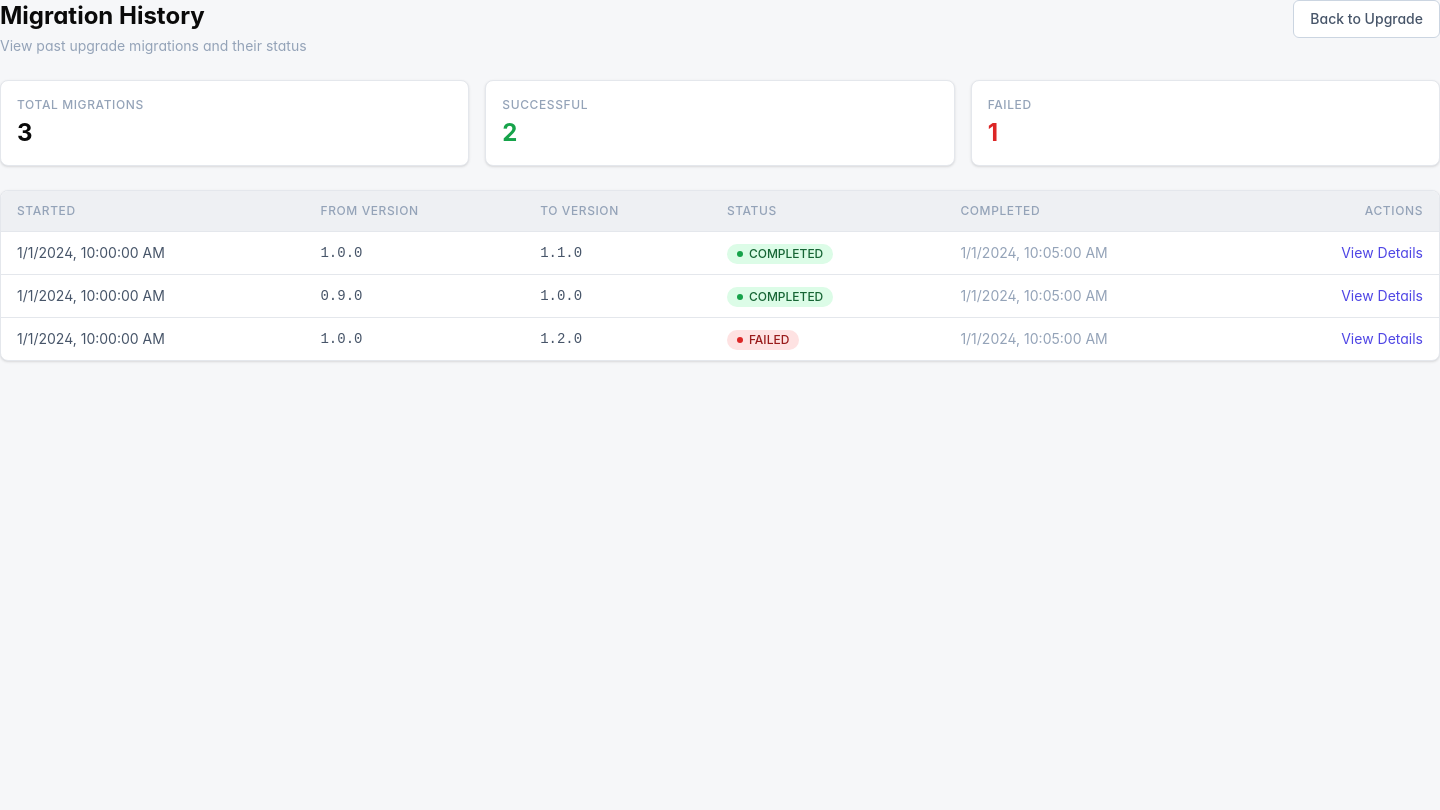
Scenario: MigrationHistoryPage › closes detail modal when Close is clicked
Click the button "View Details" in the row of "1.1.0": (1382, 253) [1341,243,1423,263]
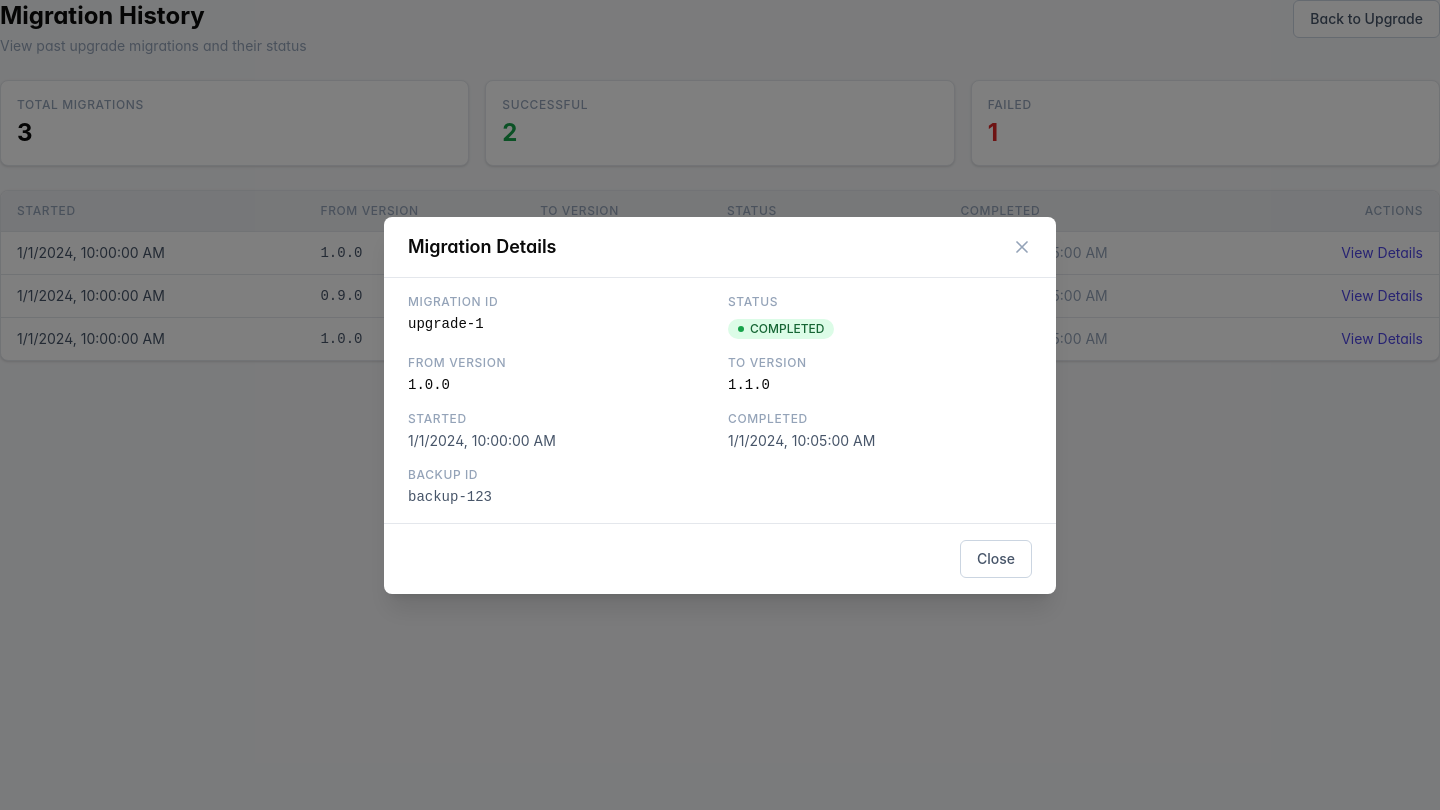
Now the heading "Migration Details" is shown, box [408,232,556,260]
Click the button with test id "modal-close-button": (996, 558) [960,540,1032,578]
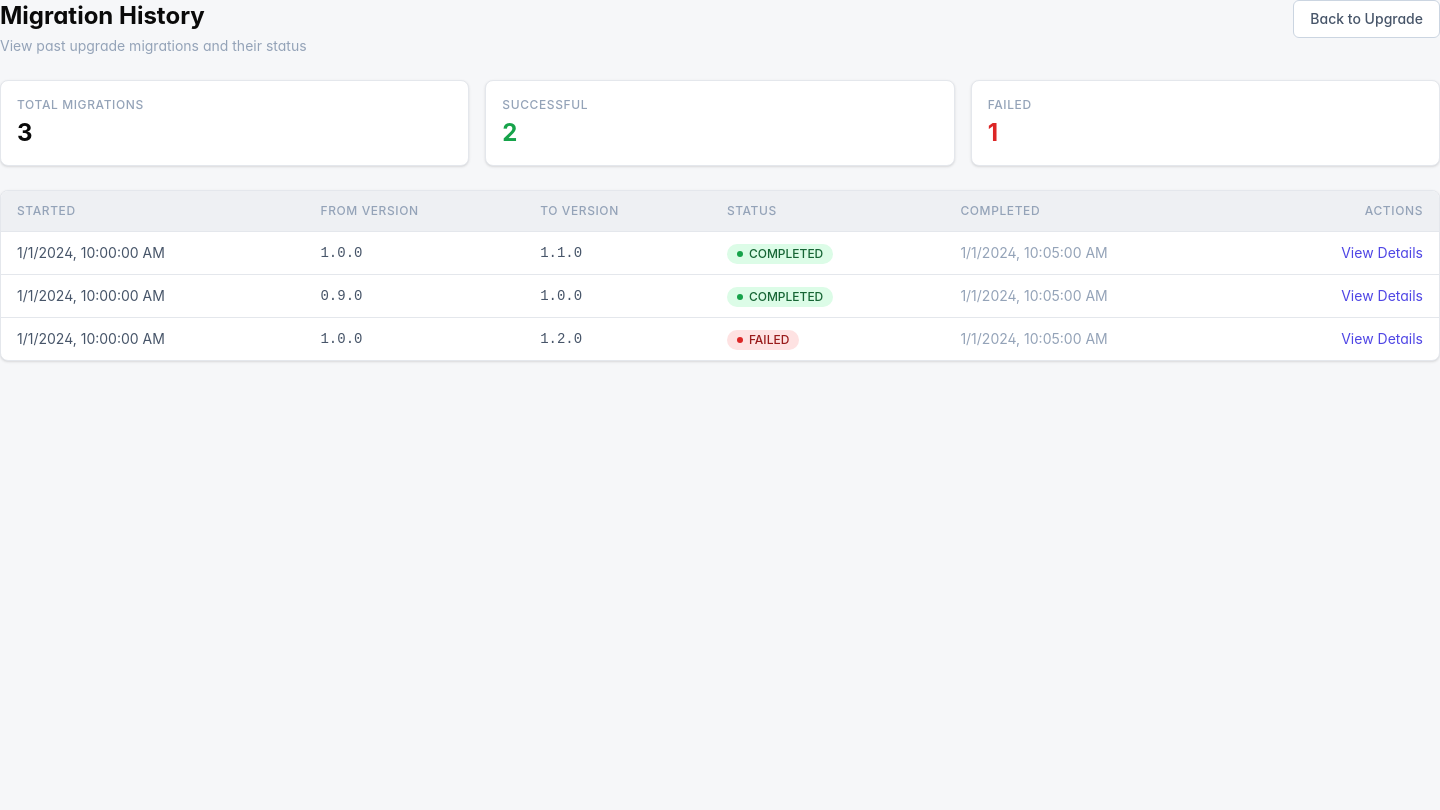
Now the heading "Migration Details" is gone
